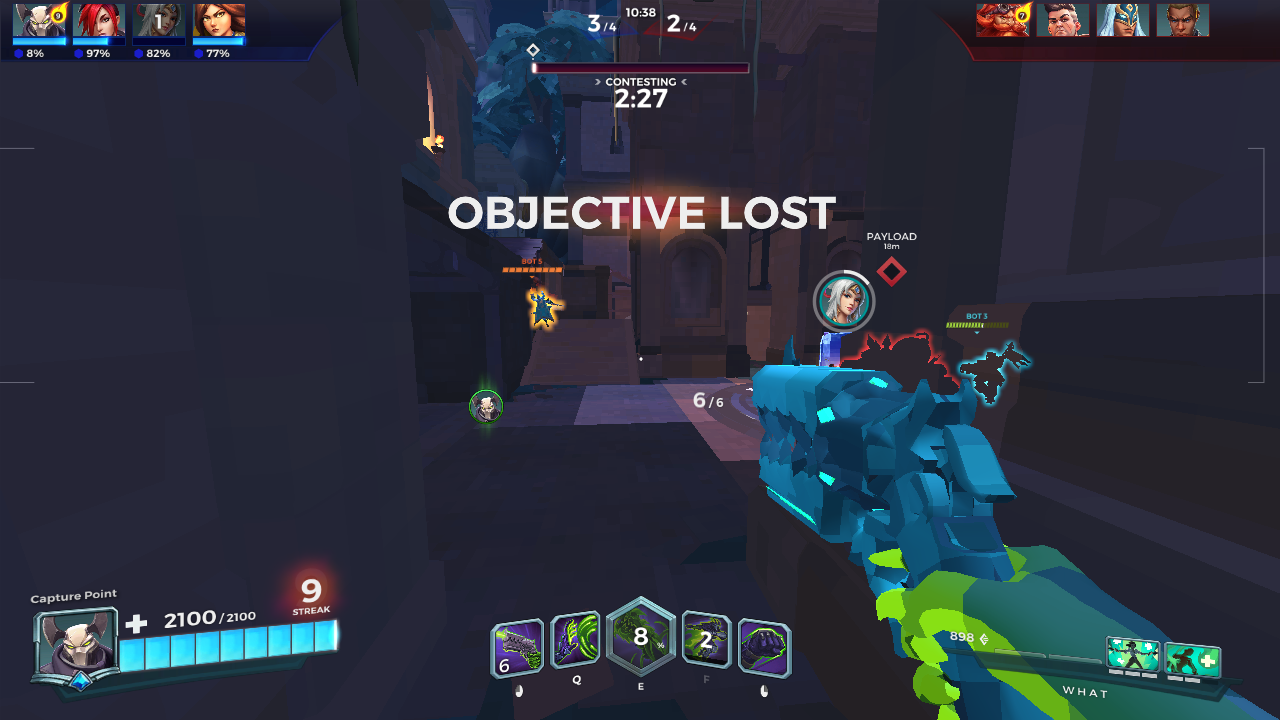model: (526, 282, 562, 329)
